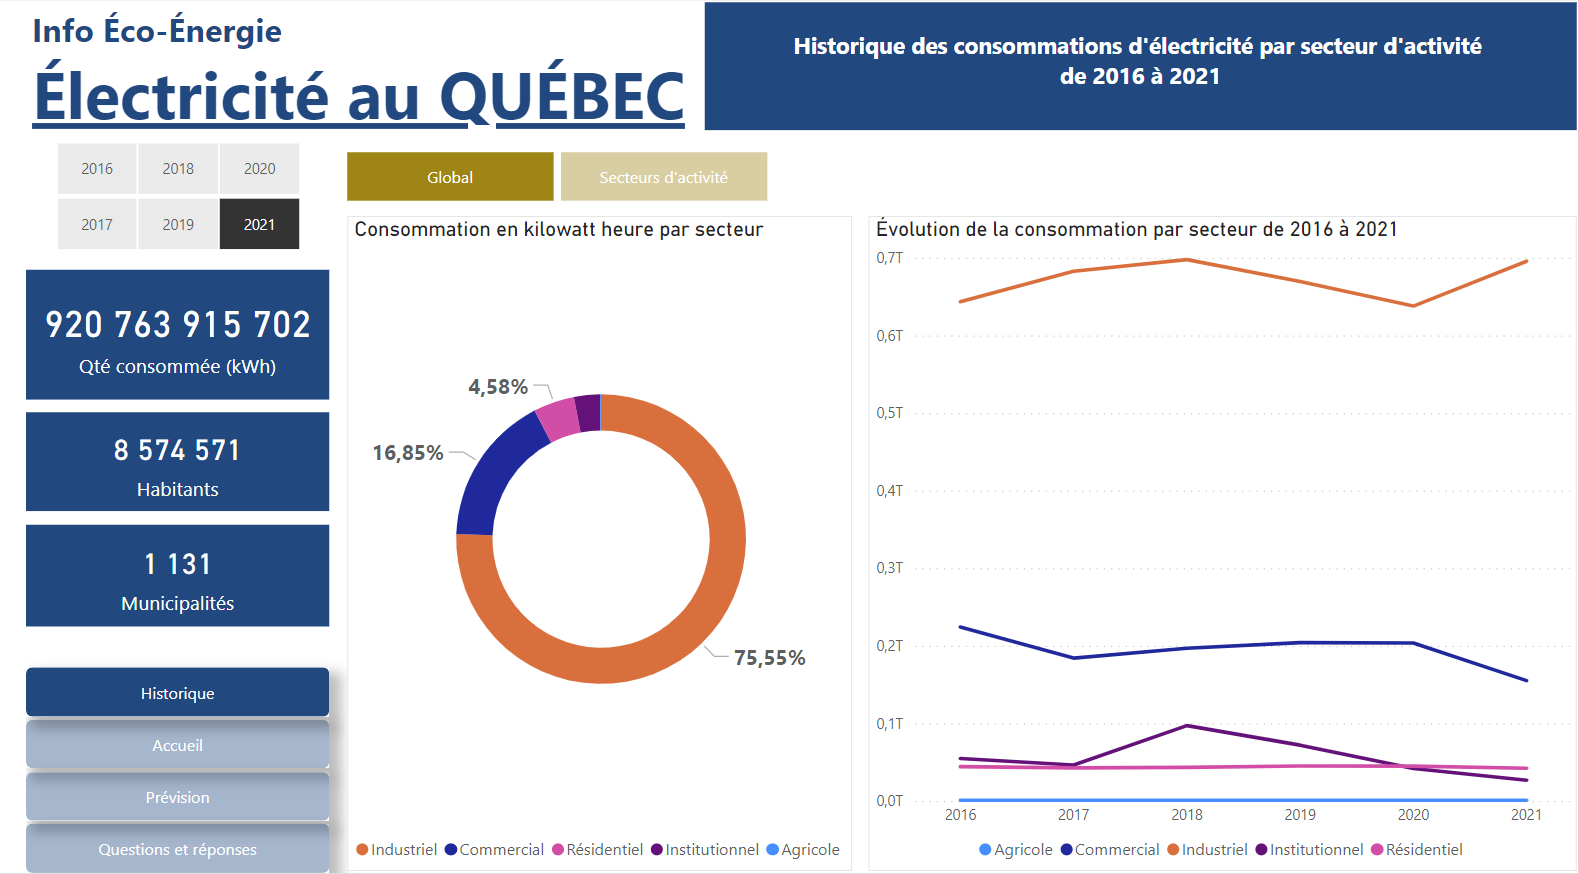

The dashboard page shown, as its layout file describes it:
{"tool":"powerbi","page":{"name":"Global","canvas":[1280,720],"ordinal":2},"visuals":[{"type":"card","fields":{"Values":["Consommation_Secteur.Qté consommée (MWh)"]},"box":[0,222.4,250.5,107.2],"z":0},{"type":"textbox","box":[560.2,0.9,719.9,105.8],"z":1000},{"type":"textbox","box":[0,0,559.4,135],"z":2000},{"type":"actionButton","box":[0,593.8,250.3,39.7],"z":3000},{"type":"actionButton","box":[0,550,250.5,40.9],"z":4000},{"type":"actionButton","box":[0,636.4,250.5,39.7],"z":5000},{"type":"actionButton","box":[0,679.1,250.5,40.9],"z":6000},{"type":"slicer","fields":{"Values":["Date.Année"]},"box":[0,110.4,249.4,101.5],"z":7000},{"type":"card","fields":{"Values":["Municipalité_Population.Nbre habitant"]},"box":[0,340.1,250.5,81.9],"z":9000},{"type":"card","fields":{"Values":["Municipalité_Consommation.Nombre municipalités"]},"box":[0,432.4,250.5,84.3],"z":11000},{"type":"actionButton","box":[264.9,125.2,170,40],"z":12000},{"type":"actionButton","box":[441.9,125.2,170,40],"z":13000},{"type":"lineChart","title":"Évolution de la consommation par secteur de 2016 à 2021","fields":{"Category":["Date.Année"],"Y":["Municipalité_Consommation.Qté consommée (kWh)"],"Series":["Municipalité_Consommation.Secteur"]},"box":[695.5,177.6,584.5,541.2],"z":14000},{"type":"donutChart","title":"Consommation en kilowatt heure par secteur","fields":{"Category":["Consommation_Secteur.Secteur"],"Y":["Consommation_Secteur.Qté consommée (MWh)"]},"box":[265.3,177.6,416.4,541.2],"z":15000}]}

Visuals, with their boxes in screenshot pixels (x1, y1, x2, y2), scaled from the page's 1280x720 canvas onto the 1578x874 screenshot:
card - Consommation_Secteur.Qté consommée (MWh): box=[0, 270, 309, 400]
textbox: box=[691, 1, 1577, 130]
textbox: box=[0, 0, 690, 164]
actionButton: box=[0, 721, 309, 769]
actionButton: box=[0, 668, 309, 717]
actionButton: box=[0, 773, 309, 821]
actionButton: box=[0, 824, 309, 873]
slicer - Date.Année: box=[0, 134, 307, 257]
card - Municipalité_Population.Nbre habitant: box=[0, 413, 309, 512]
card - Municipalité_Consommation.Nombre municipalités: box=[0, 525, 309, 627]
actionButton: box=[327, 152, 536, 201]
actionButton: box=[545, 152, 754, 201]
"Évolution de la consommation par secteur de 2016 à 2021" lineChart: box=[857, 216, 1577, 873]
"Consommation en kilowatt heure par secteur" donutChart: box=[327, 216, 840, 873]
